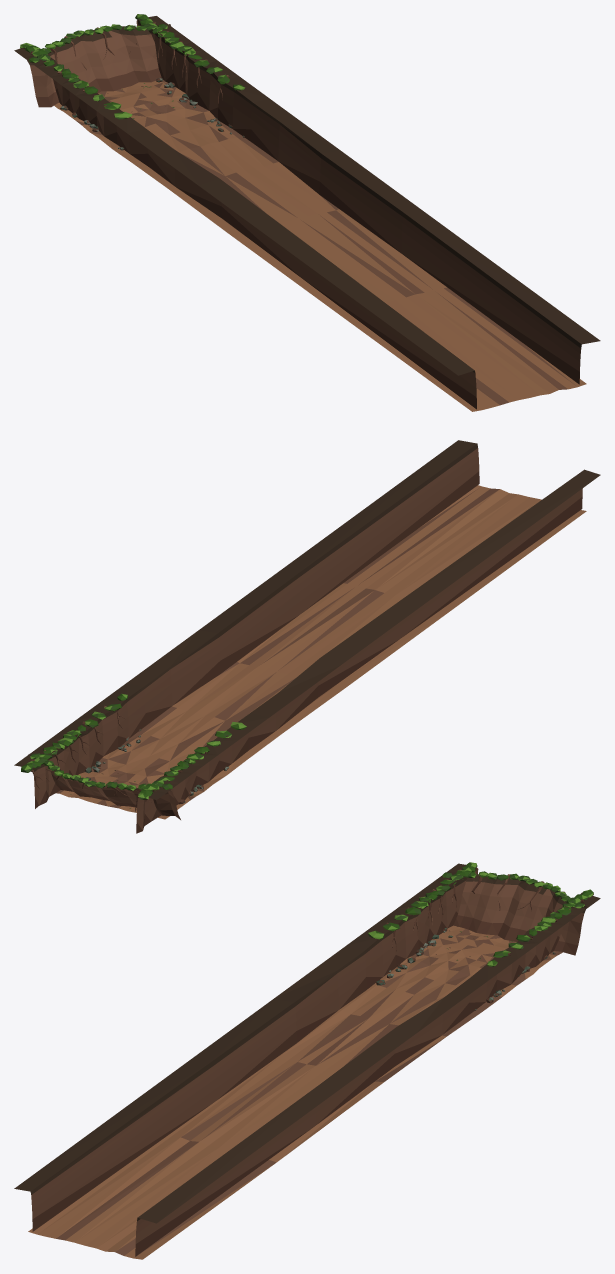
The model's file is forest-hollow.glb.
3 views of the same model, one above another, from view 1: azimuth 30°, elevation 25°; view 2: azimuth 150°, elevation 25°; view 3: azimuth 330°, elevation 25° (orthographic).
Visible parts, largest first — view 1: HollowEarth, HollowFloor, HollowMoss, HollowRoots; view 2: HollowEarth, HollowFloor, HollowMoss; view 3: HollowEarth, HollowFloor, HollowMoss, HollowStones, HollowRoots.
Boxes of the visible parts, <box> form: HollowEarth: <box>14,16,600,409</box>; HollowFloor: <box>54,79,586,411</box>; HollowMoss: <box>20,14,244,119</box>; HollowRoots: <box>22,20,229,107</box>; HollowEarth: <box>14,440,600,833</box>; HollowFloor: <box>56,485,586,819</box>; HollowMoss: <box>21,693,246,799</box>; HollowEarth: <box>14,863,600,1256</box>; HollowFloor: <box>28,925,562,1259</box>; HollowMoss: <box>368,862,593,966</box>; HollowStones: <box>376,928,555,1010</box>; HollowRoots: <box>385,862,593,955</box>.
Size of the model in its own units: 9.22 by 2.73 by 50.15.
1 material, 1 textured.
